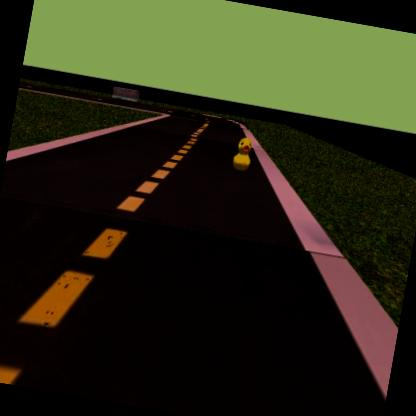Barrier: (108, 84, 140, 104)
Duckie: (230, 134, 256, 172)
